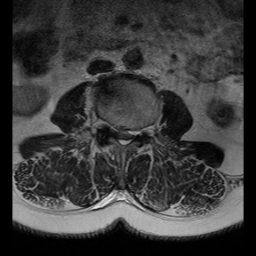CCS_stenosis: (120, 124, 127, 148)
LFS_stenosis: (135, 122, 142, 144)
LLS_normal: (127, 123, 135, 145)
RFS_severe_stenosis: (106, 116, 114, 134)
RLS_severe_stenosis: (113, 120, 120, 144)
